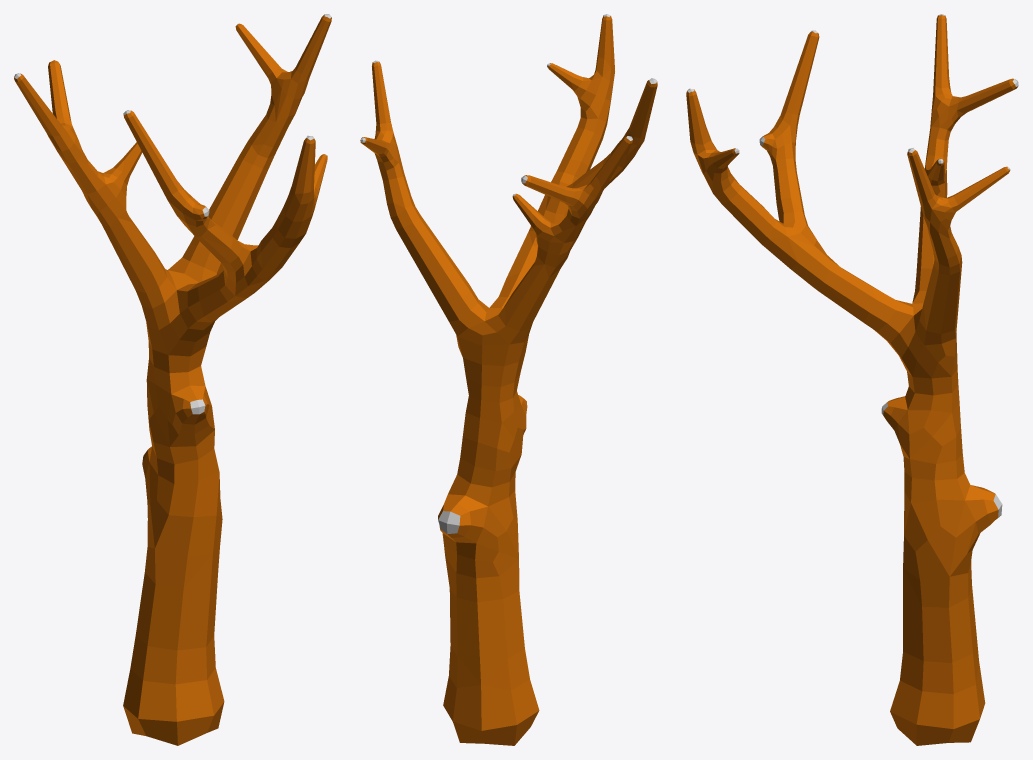
File: DeadTree01.fbx
3 renders of one model, left to right at view 1: azimuth 30°, elevation 25°; view 2: azimuth 150°, elevation 25°; view 3: azimuth 270°, elevation 25°, orthographic. The views are drawn at different scales.
Visible parts, largest first — view 1: Plane; view 2: Plane; view 3: Plane.
Boxes of the visible parts, bbox=[...] form: Plane: bbox=[14, 14, 331, 745]; Plane: bbox=[360, 14, 657, 745]; Plane: bbox=[686, 14, 1018, 745].
Size of the model in its own units: 214 by 477 by 218.
